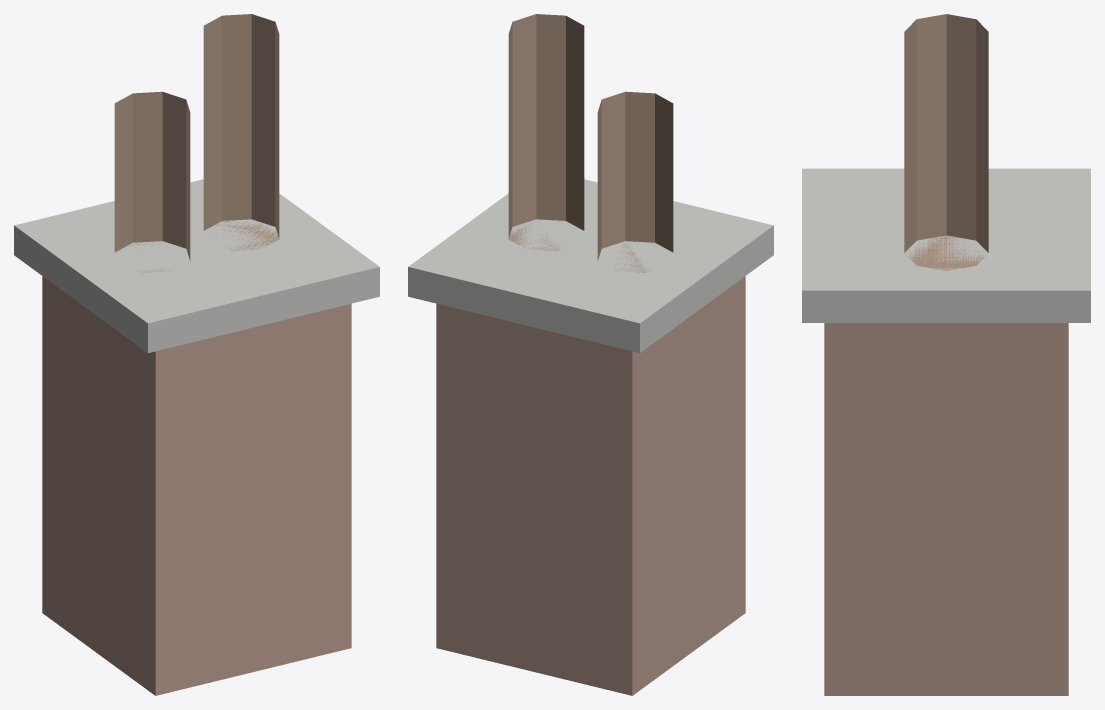
File: vent_stack.lod1.glb
3 renders of one model, left to right at view 1: azimuth 30°, elevation 25°; view 2: azimuth 150°, elevation 25°; view 3: azimuth 270°, elevation 25°, orthographic. The views are drawn at different scales.
Parts seen in each view (by area): view 1: props_vent_stack; view 2: props_vent_stack; view 3: props_vent_stack.
Boxes of the visible parts, bbox=[...] form: props_vent_stack: bbox=[14, 14, 379, 695]; props_vent_stack: bbox=[408, 14, 773, 695]; props_vent_stack: bbox=[802, 14, 1090, 695].
Bounding box in the file's own units: 1.3 × 3.16 × 1.3.
